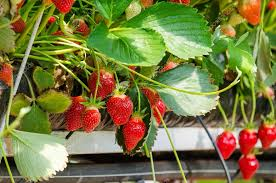ripe: (86, 65, 117, 104), (105, 90, 133, 130), (121, 111, 145, 154), (65, 93, 88, 134), (215, 128, 236, 160), (237, 150, 258, 180), (238, 124, 257, 153), (258, 119, 274, 151), (81, 105, 100, 131), (9, 14, 28, 35), (3, 58, 16, 87), (55, 5, 74, 16)
unripe: (136, 84, 169, 125), (235, 6, 265, 31), (67, 19, 95, 38)
